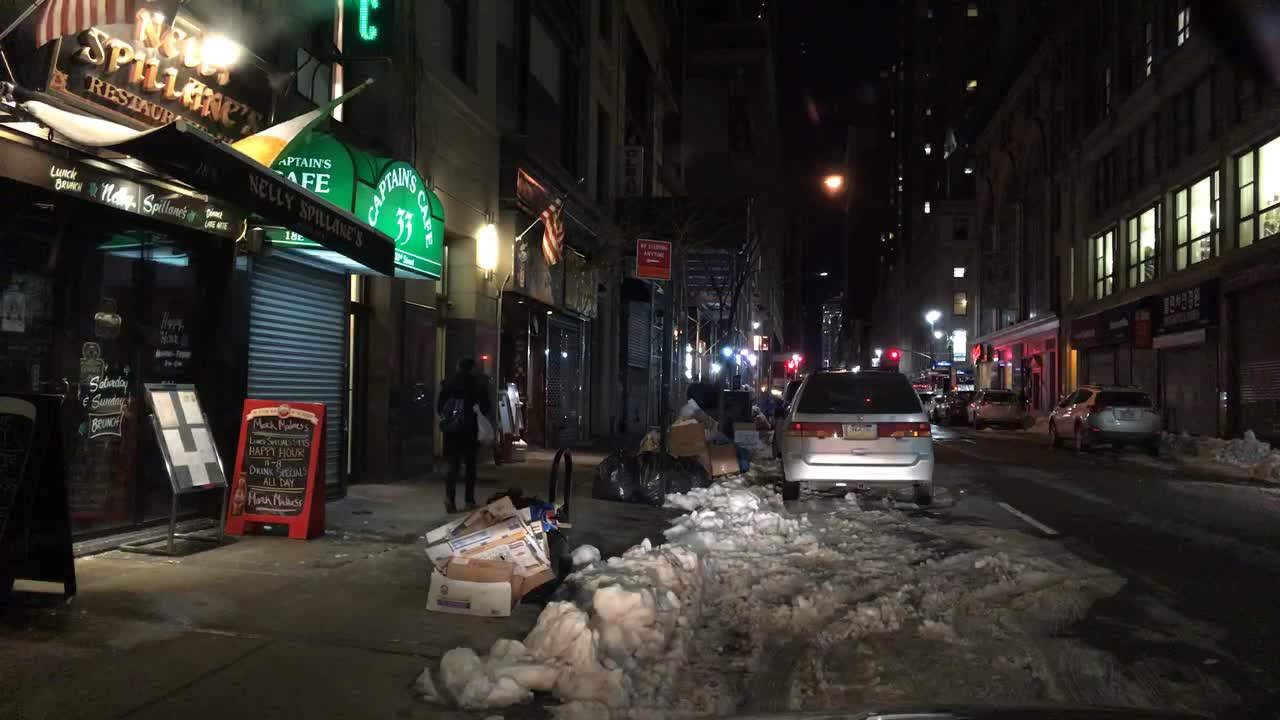car: (772, 366, 937, 504), (1040, 379, 1163, 456), (965, 385, 1024, 431), (939, 386, 979, 423), (783, 379, 802, 411), (925, 395, 946, 422)
person: (434, 354, 506, 514)
traffic light: (885, 345, 901, 360), (784, 360, 795, 370)
traffic sign: (634, 236, 675, 282)
